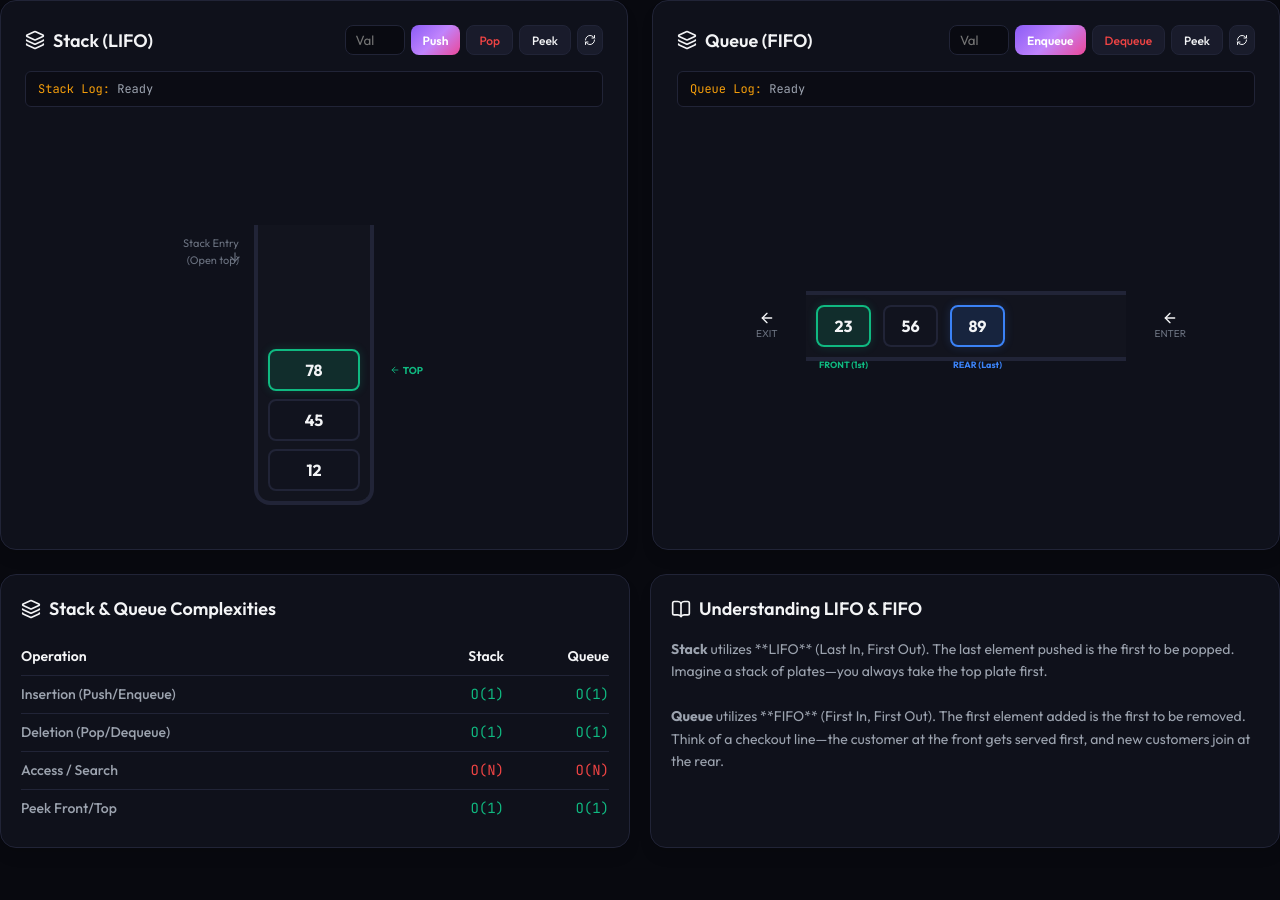
Scenario: DSA Visualizers Integration Suite › StackQueueVisualizer › allows pushing to Stack and enqueueing to Queue
Type "55" into the number field with placeholder "Val" in the row of "Stack (LIFO)".
click(375, 40); type("55")  # box [345,25,405,55]
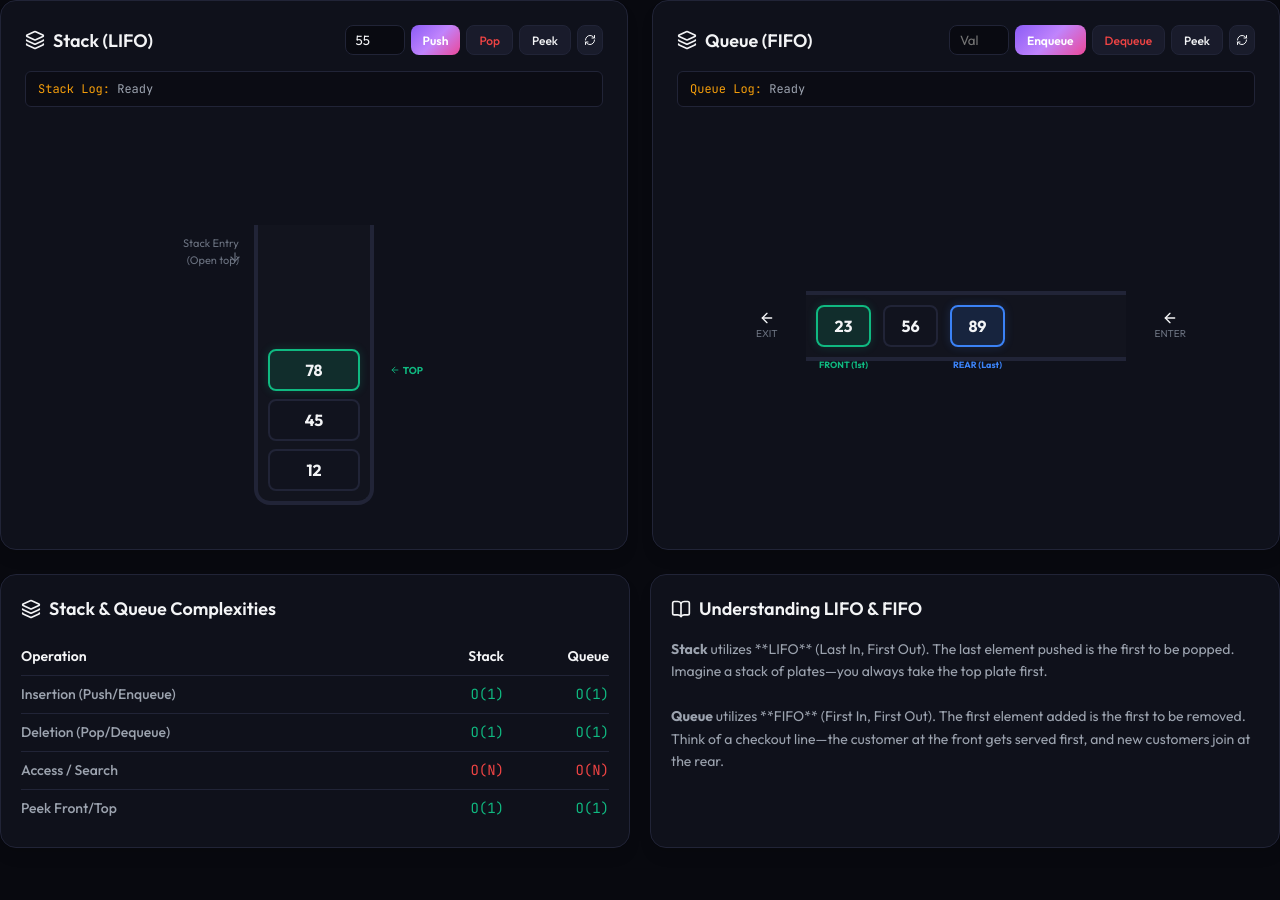
Click the button "Push".
click(436, 40)  # box [411,25,460,55]
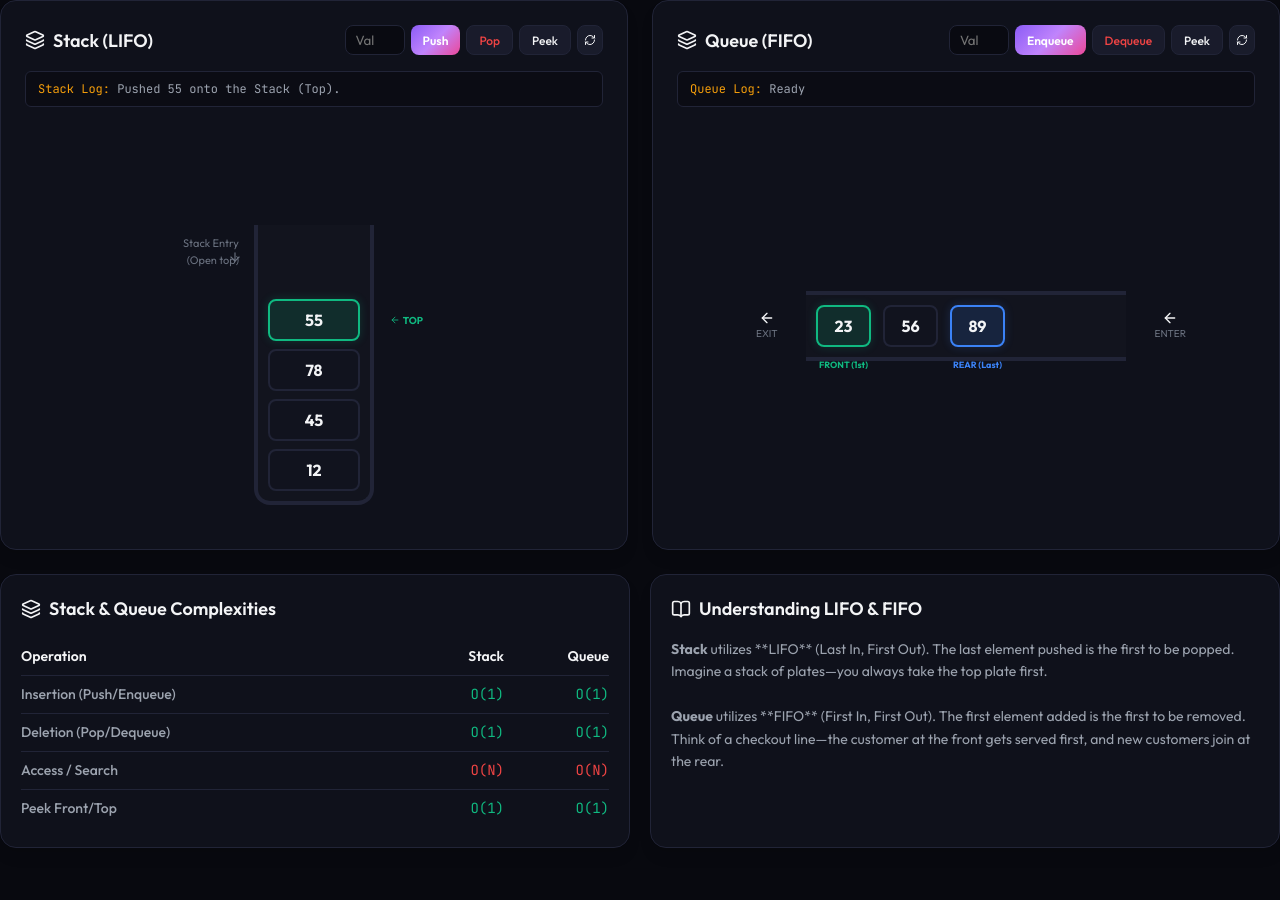
Now the text "55" is shown, box [305,310,323,330]
Type "66" into the number field with placeholder "Val" next to "Queue (FIFO)".
click(979, 40); type("66")  # box [949,25,1009,55]
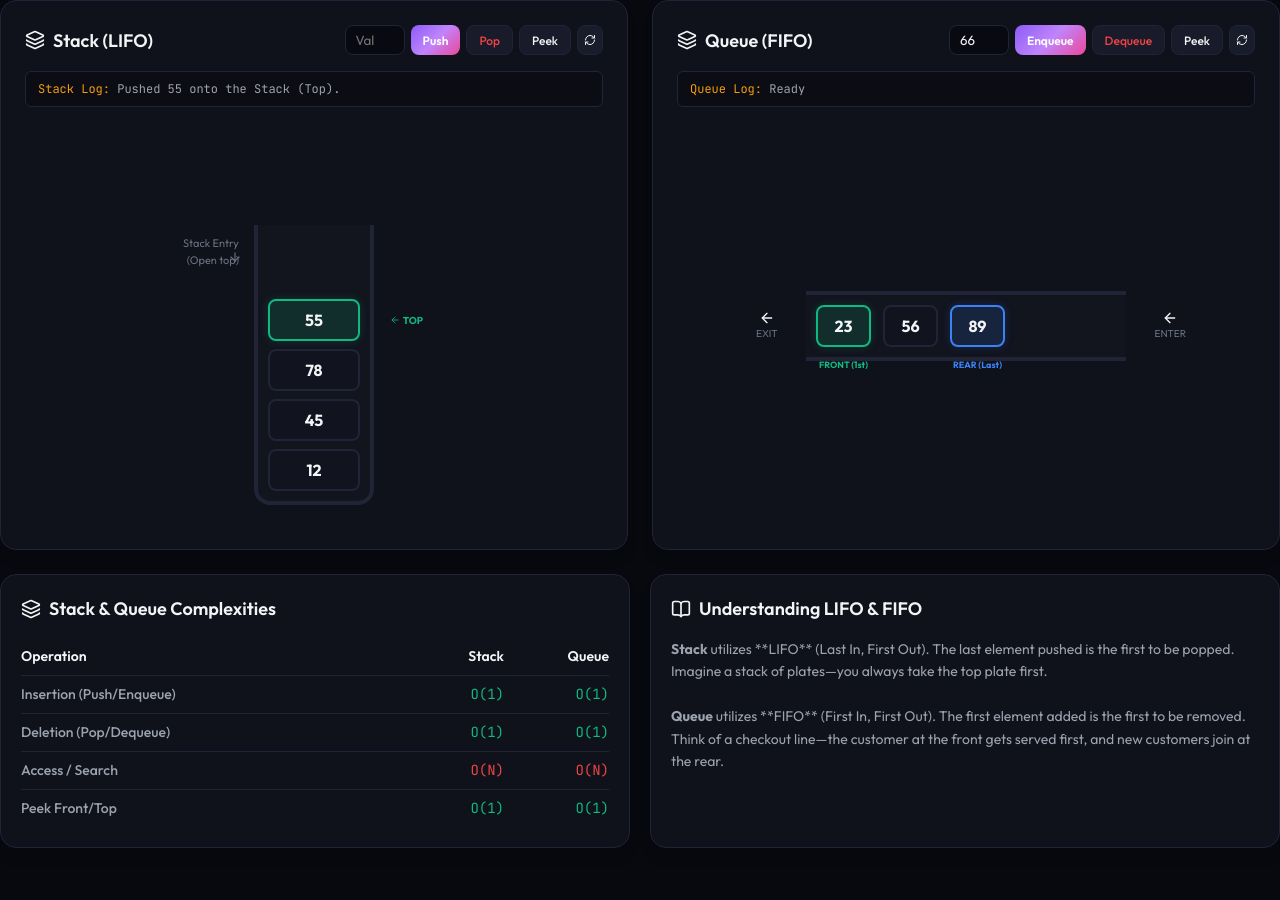
Click the button "Enqueue".
click(1050, 40)  # box [1015,25,1086,55]
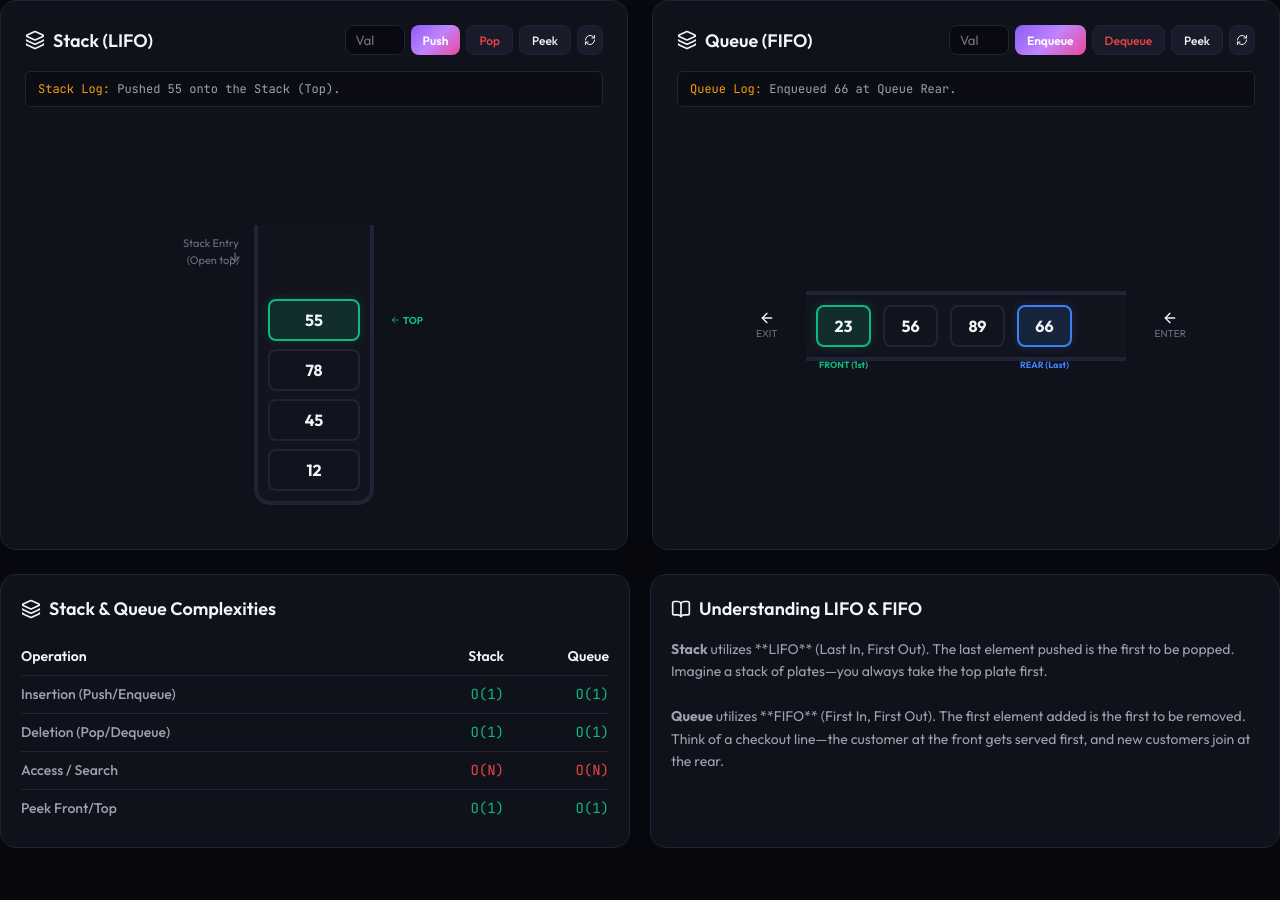
Now the text "66" is shown, box [1035,316,1054,336]
